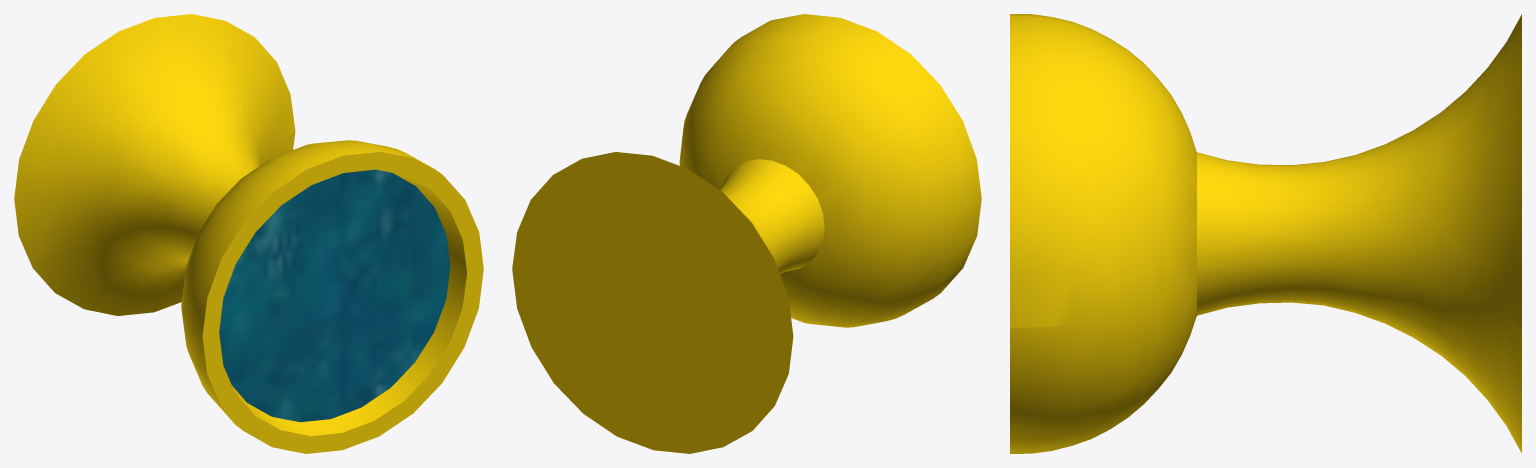
Rendered from Chalice.obj.
The picture shows the model from 3 angles, left to right: view 1: azimuth 30°, elevation 25°; view 2: azimuth 150°, elevation 25°; view 3: azimuth 270°, elevation 25°; orthographic projection. The views are drawn at different scales.
Size of the model in its own units: 0.744 by 0.744 by 0.863.
2 materials, 1 textured.
